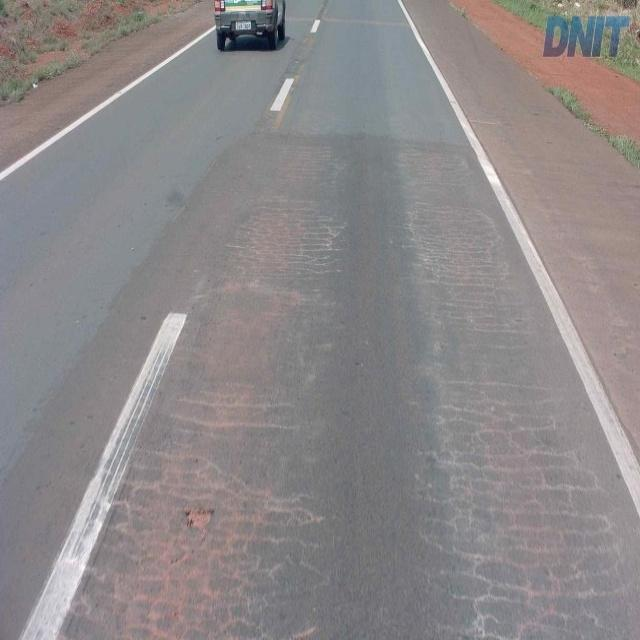pothole: (181, 498, 219, 544)
